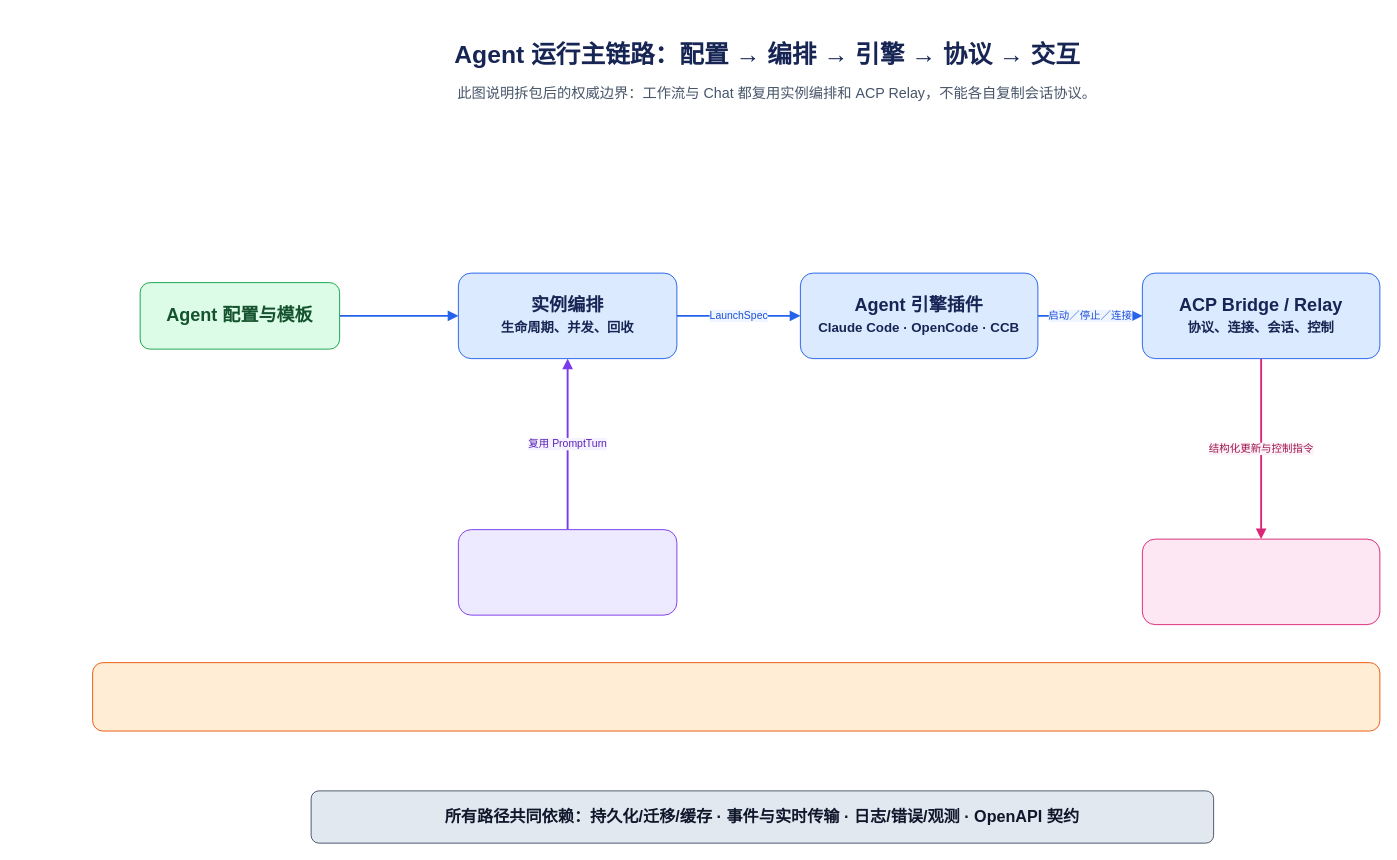
Some shapes in this 1397 by 860 pixel diagram are drawn without their labels. Each missing label, with the centre of its shape:
"会话协作（Chat / YJS） 状态投影、断线恢复、多标签页" goes at (1260,581).
"工作流运行时 DAG、任务、触发器" goes at (567,572).
"跨切面约束：身份/组织/授权在所有入口校验；环境、Machine、沙盒与工作区在编排时解析；资源配置在启动时解析。" goes at (736,696).
